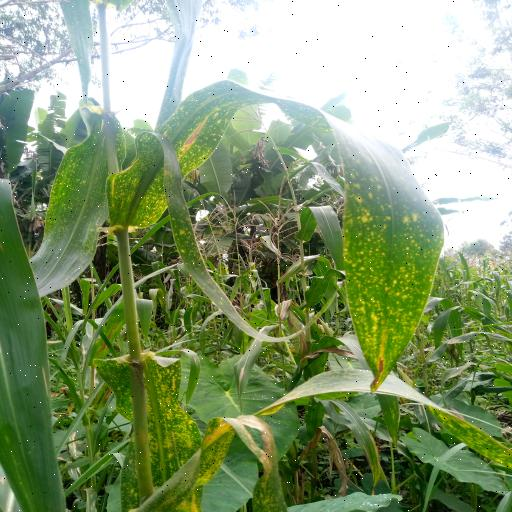Corn_Brown_Spots: (125, 81, 443, 382), (92, 350, 216, 501)
